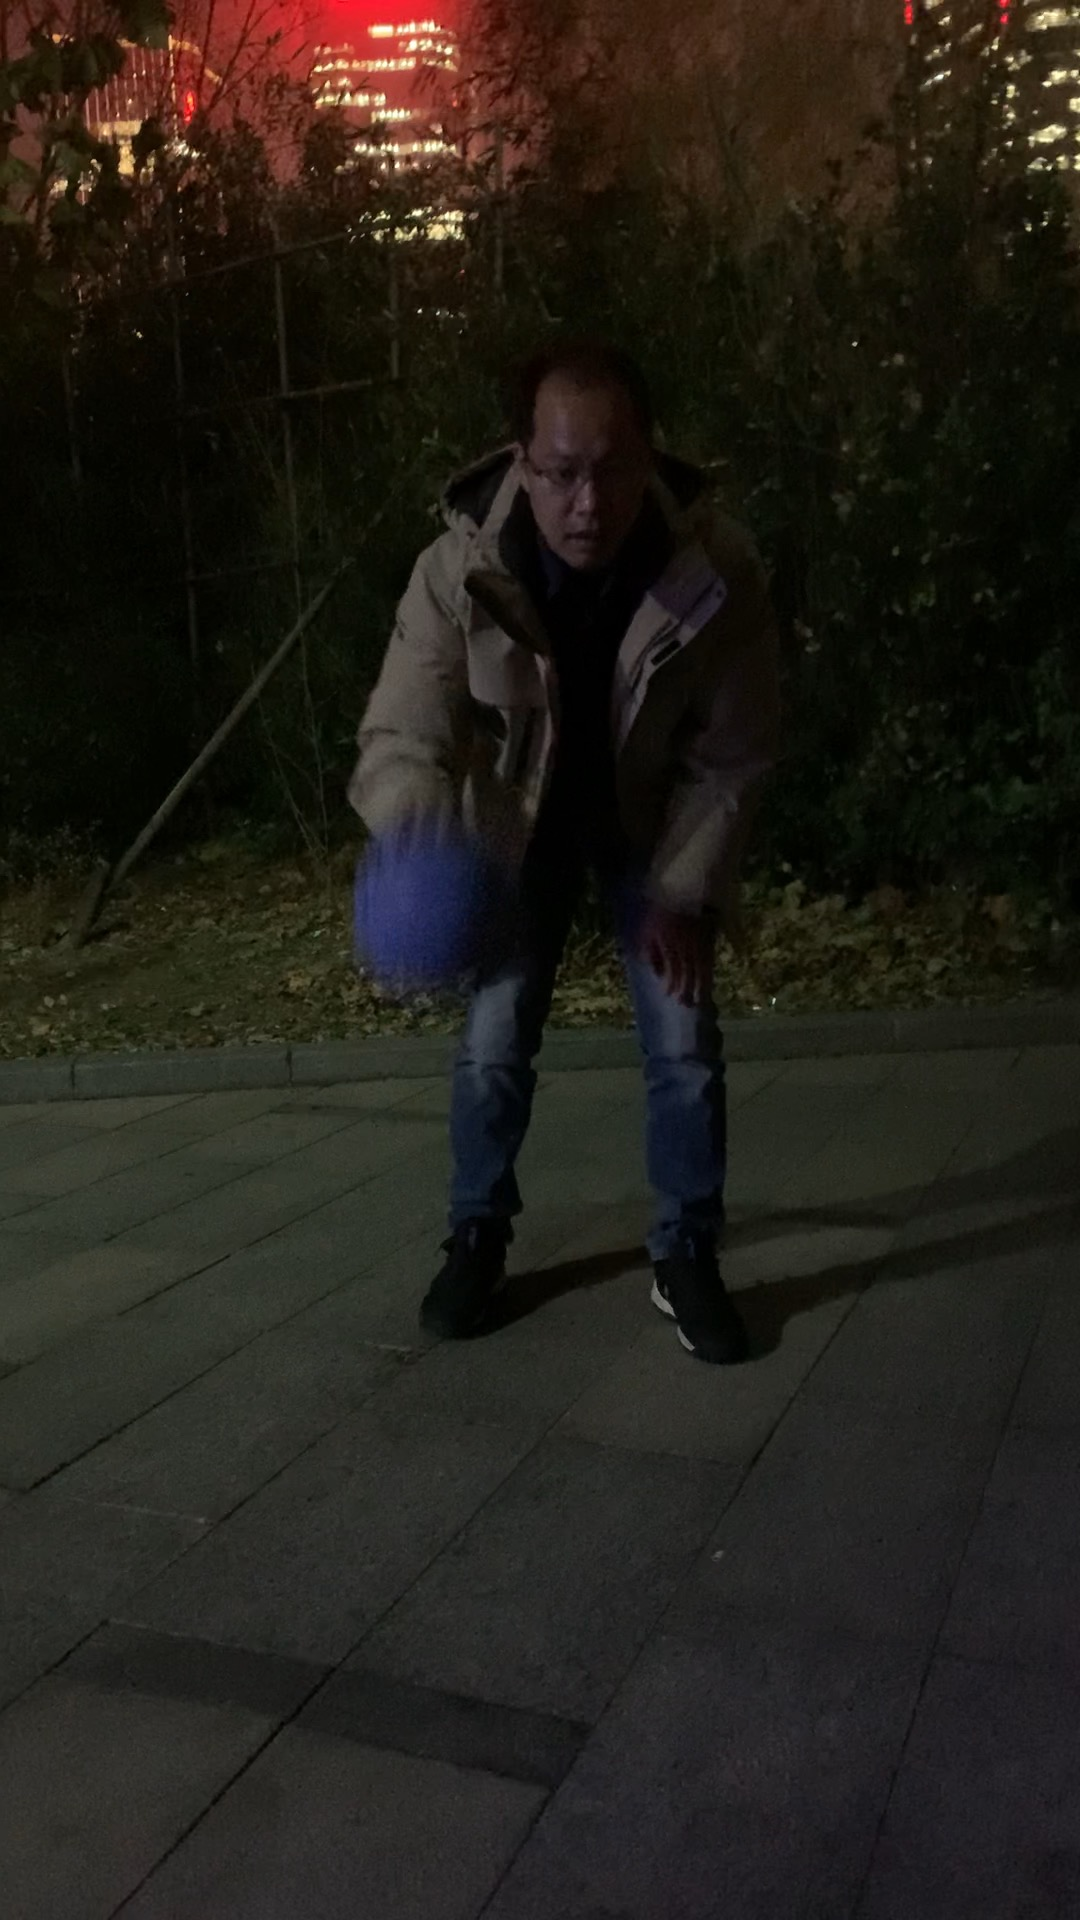ball: (353, 835, 512, 988)
